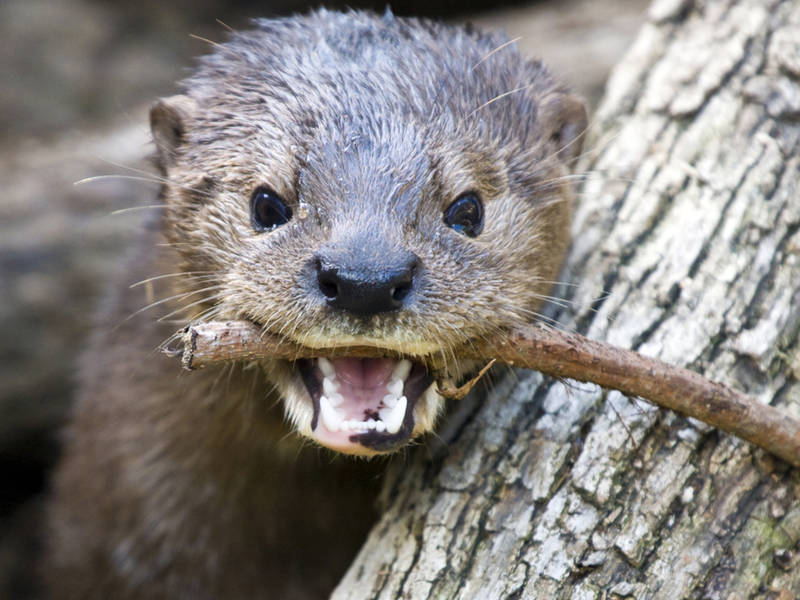otter: (100, 4, 657, 527)
